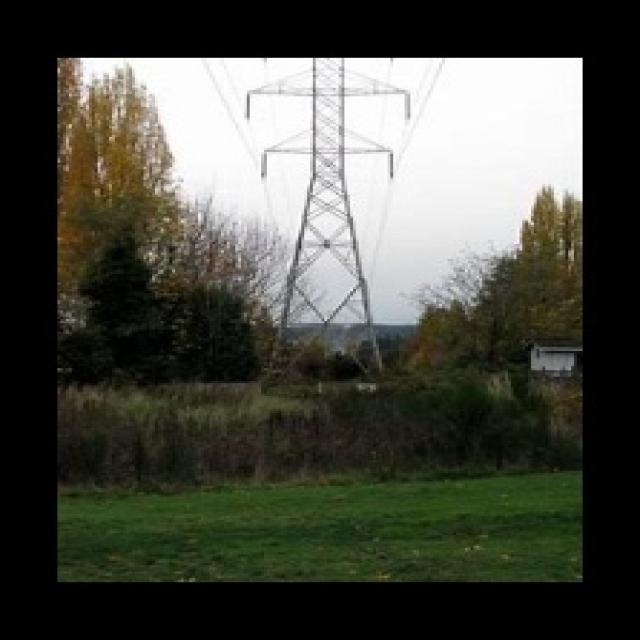utility poles: (186, 221, 319, 394), (339, 286, 465, 396)
